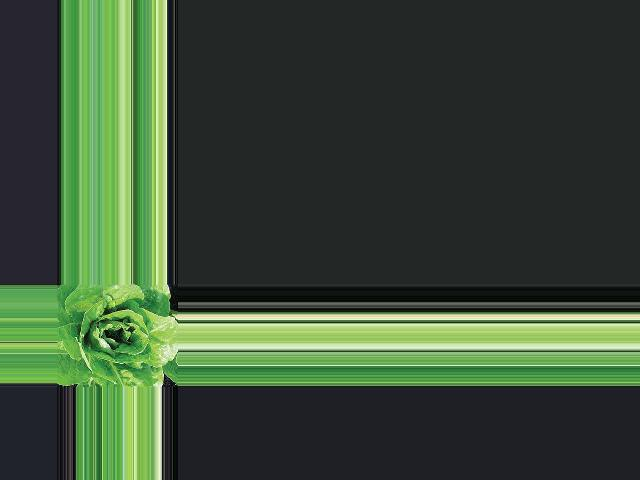lettuce: (58, 287, 172, 387)
